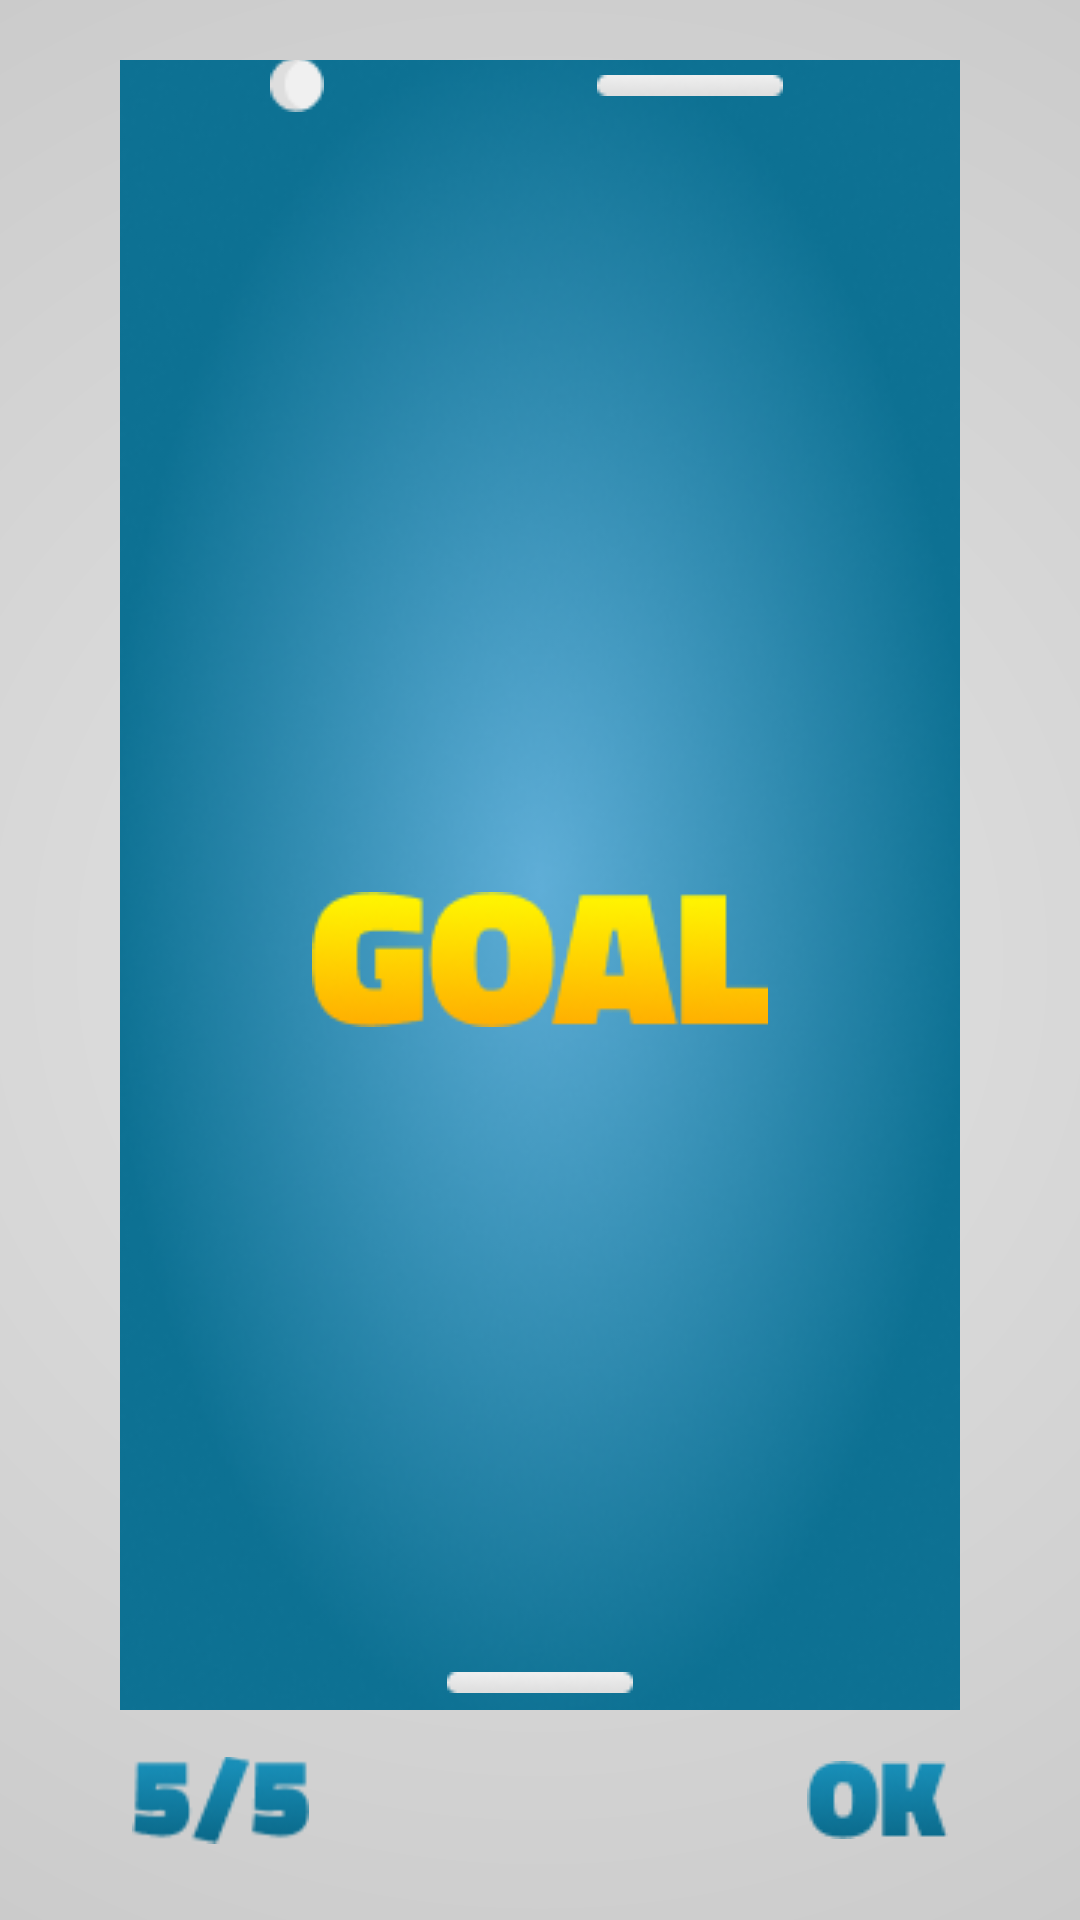

Named icons in this screenshot (1080 × 1920) and their centers, (x=x, y=y):
tutorial ball: (x=297, y=86)
